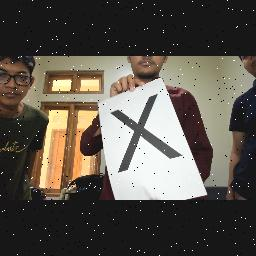x: (108, 92, 186, 178)
